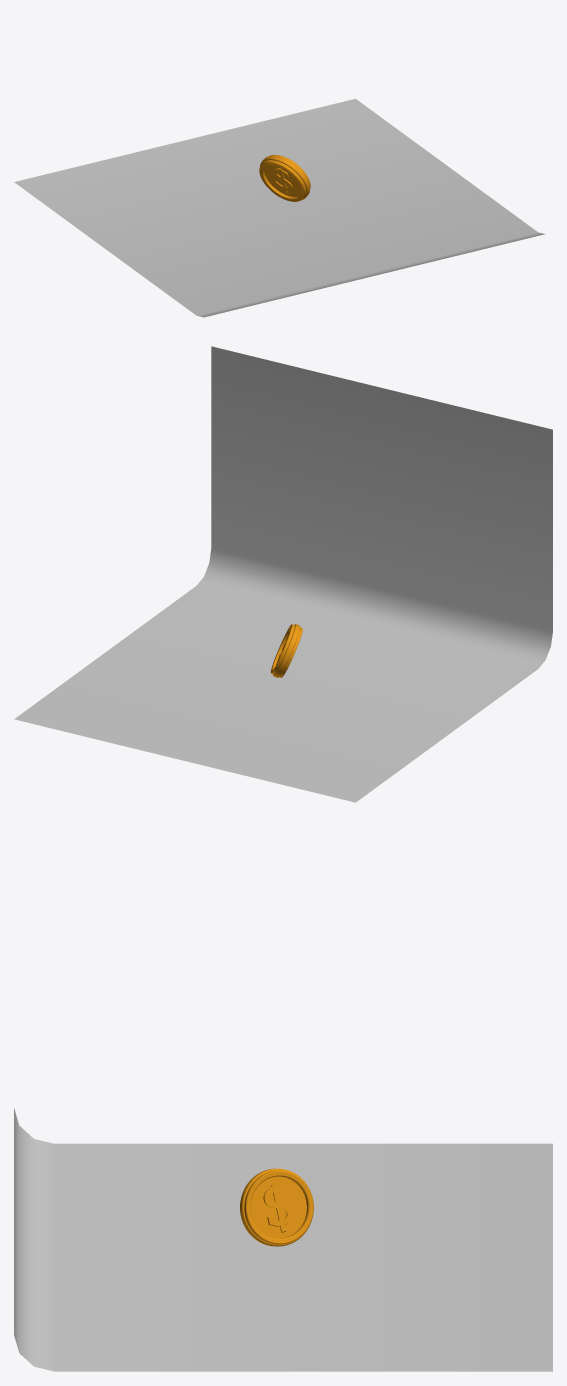
File: coin.glb
3 views of the same model, one above another, from view 1: azimuth 30°, elevation 25°; view 2: azimuth 150°, elevation 25°; view 3: azimuth 270°, elevation 25° (orthographic). The views are drawn at different scales.
Parts seen in each view (by area): view 1: Background, Coin; view 2: Background, Coin; view 3: Background, Coin.
Boxes of the visible parts, box(x1,y1,x2,y2) form: Background: box(14, 98, 545, 317); Coin: box(259, 155, 310, 201); Background: box(14, 346, 552, 802); Coin: box(271, 624, 302, 677); Background: box(14, 1108, 552, 1371); Coin: box(240, 1168, 313, 1246).
Bounding box in the file's own units: 1369 × 876 × 1369.
